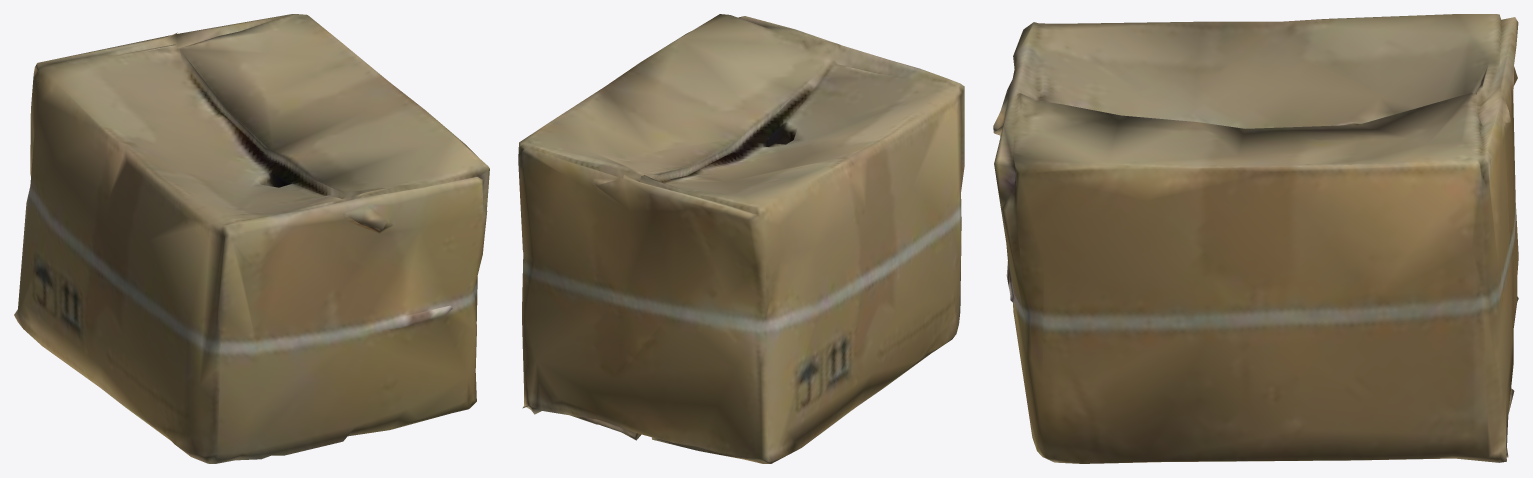
The picture shows the model from 3 angles, left to right: view 1: azimuth 30°, elevation 25°; view 2: azimuth 150°, elevation 25°; view 3: azimuth 270°, elevation 25°; orthographic projection. The views are drawn at different scales.
Visible parts, largest first — view 1: cardboard_box_01; view 2: cardboard_box_01; view 3: cardboard_box_01.
Boxes of the visible parts, x1,y1,x2,y2 form: cardboard_box_01: (14,14,489,463); cardboard_box_01: (518,14,964,463); cardboard_box_01: (993,14,1518,463).
Bounding box in the file's own units: 0.3855 × 0.3407 × 0.5159.
Materials: 1 (1 with a texture image).
